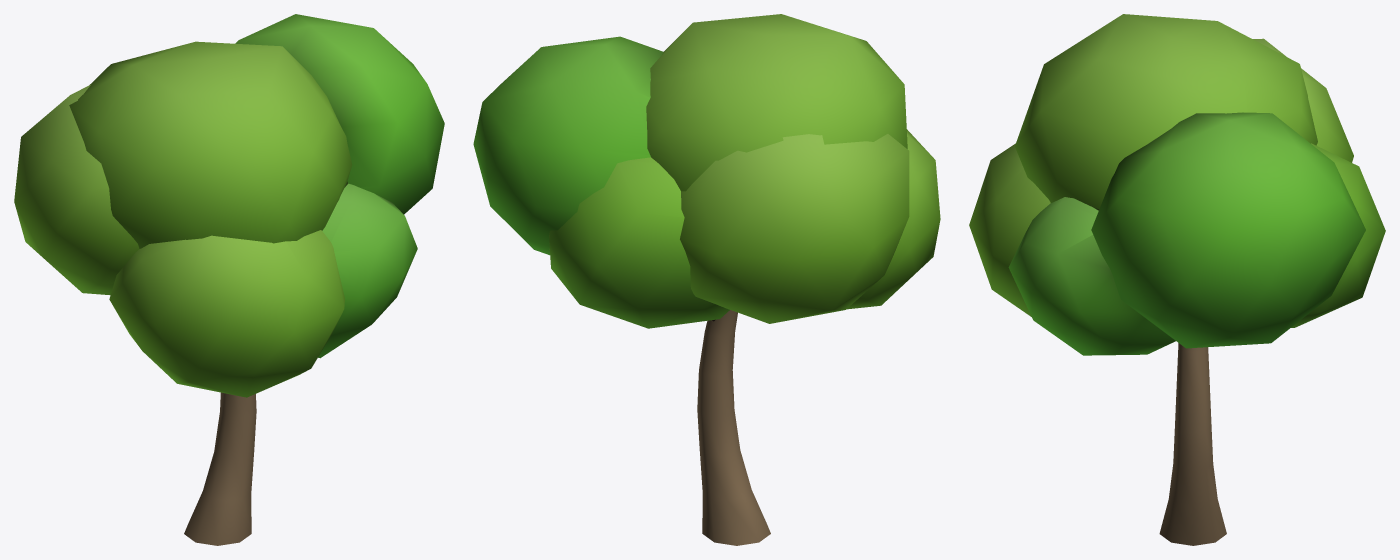
Rendered from tree-a.glb.
3 renders of one model, left to right at view 1: azimuth 30°, elevation 25°; view 2: azimuth 150°, elevation 25°; view 3: azimuth 270°, elevation 25°, orthographic.
Visible parts, largest first — view 1: tree-a; view 2: tree-a; view 3: tree-a.
Boxes of the visible parts, x1=… form: tree-a: x1=14, y1=14, x2=444, y2=545; tree-a: x1=473, y1=14, x2=940, y2=545; tree-a: x1=969, y1=14, x2=1385, y2=545.
Size of the model in its own units: 6.52 by 7.69 by 5.98.
